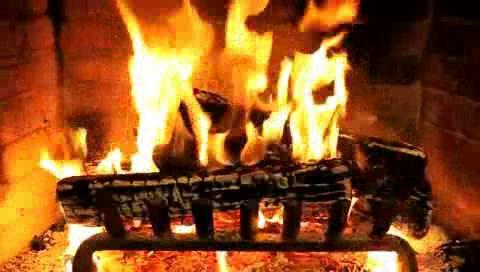fire: (107, 2, 364, 183)
